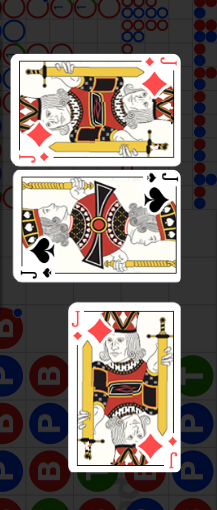7D: (16, 152, 50, 165)
JS: (132, 171, 179, 215), (12, 238, 58, 282)
